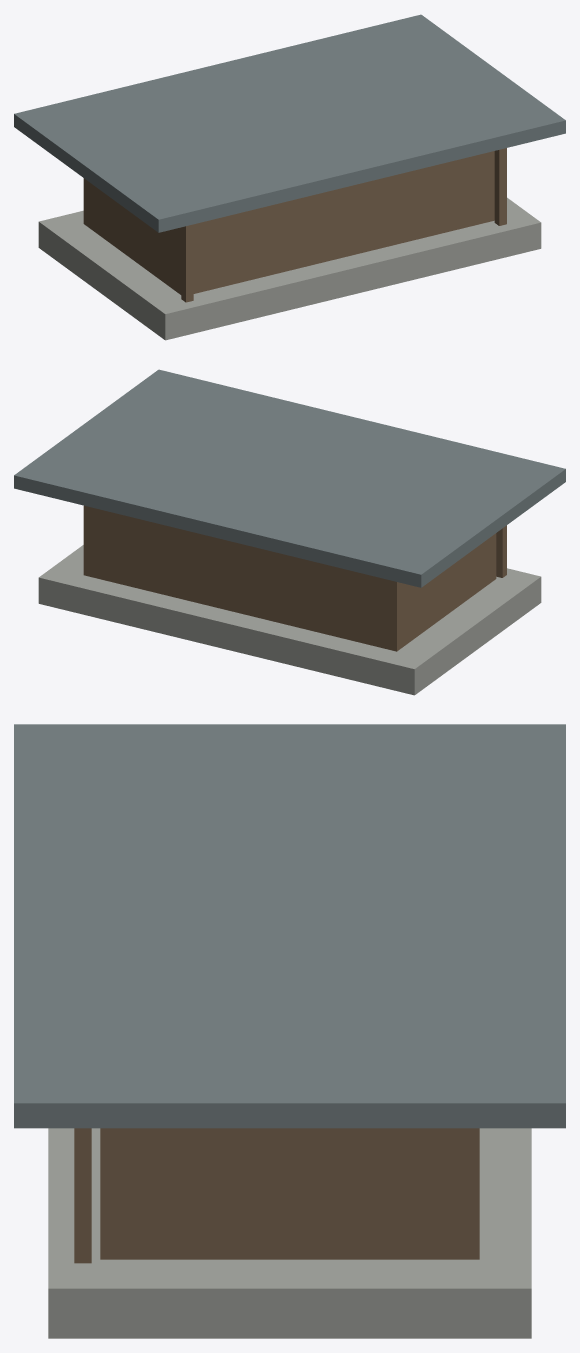
Rendered from landmark.glb.
3 renders of one model, top to bottom at view 1: azimuth 30°, elevation 25°; view 2: azimuth 150°, elevation 25°; view 3: azimuth 270°, elevation 25°, orthographic. The views are drawn at different scales.
Parts seen in each view (by area): view 1: Scharmoin shelter / roof, Scharmoin shelter / timber, Scharmoin shelter / foundation, Shelter column, Shelter column.001; view 2: Scharmoin shelter / roof, Scharmoin shelter / timber, Scharmoin shelter / foundation, Shelter column; view 3: Scharmoin shelter / roof, Scharmoin shelter / foundation, Scharmoin shelter / timber, Shelter column.001.
Part boxes in pixels (x1,y1,x2,y2): Scharmoin shelter / roof: (14, 14, 565, 232); Scharmoin shelter / timber: (83, 151, 494, 294); Scharmoin shelter / foundation: (38, 197, 541, 340); Shelter column: (181, 224, 193, 302); Shelter column.001: (494, 148, 506, 225); Scharmoin shelter / roof: (14, 369, 565, 587); Scharmoin shelter / timber: (83, 505, 496, 651); Scharmoin shelter / foundation: (38, 545, 541, 695); Shelter column: (496, 525, 506, 577); Scharmoin shelter / roof: (14, 724, 565, 1128); Scharmoin shelter / foundation: (48, 1128, 531, 1338); Scharmoin shelter / timber: (100, 1128, 479, 1259); Shelter column.001: (74, 1128, 91, 1263).
Bounding box in the file's own units: 13 × 4 × 8.
